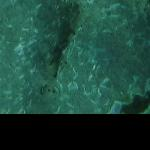dead: (5, 3, 146, 111)
